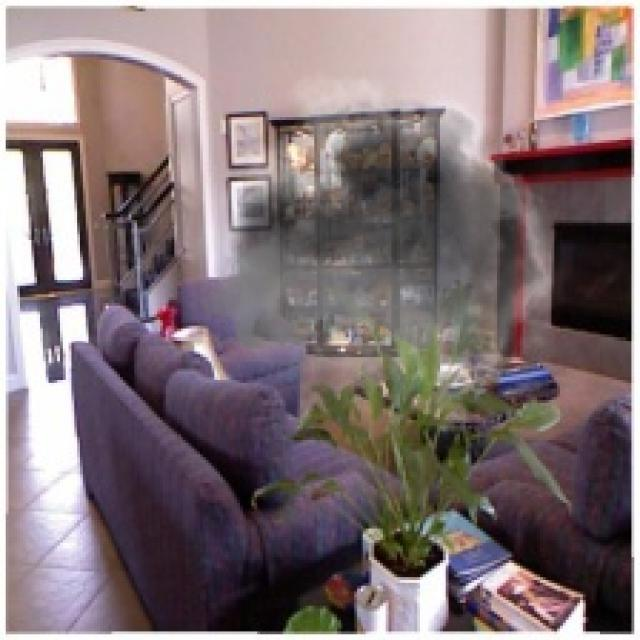Smoke: (197, 54, 577, 457)
